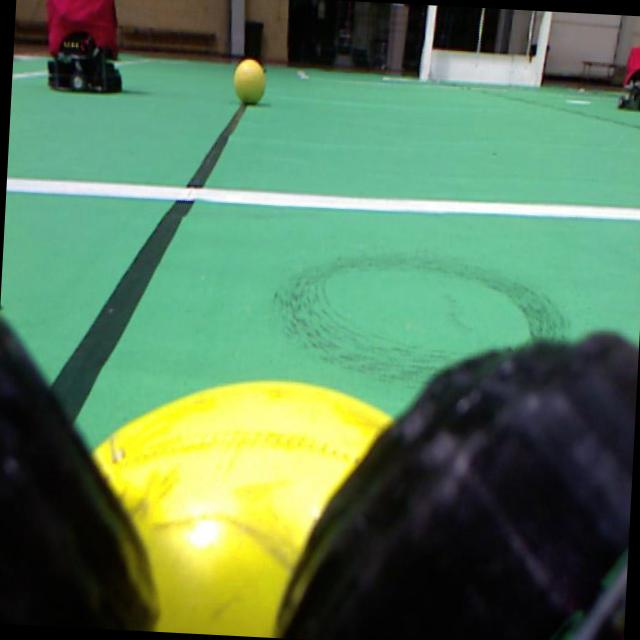ball: (93, 381, 390, 635), (234, 59, 265, 103)
goal: (419, 5, 437, 80), (534, 11, 551, 86)
